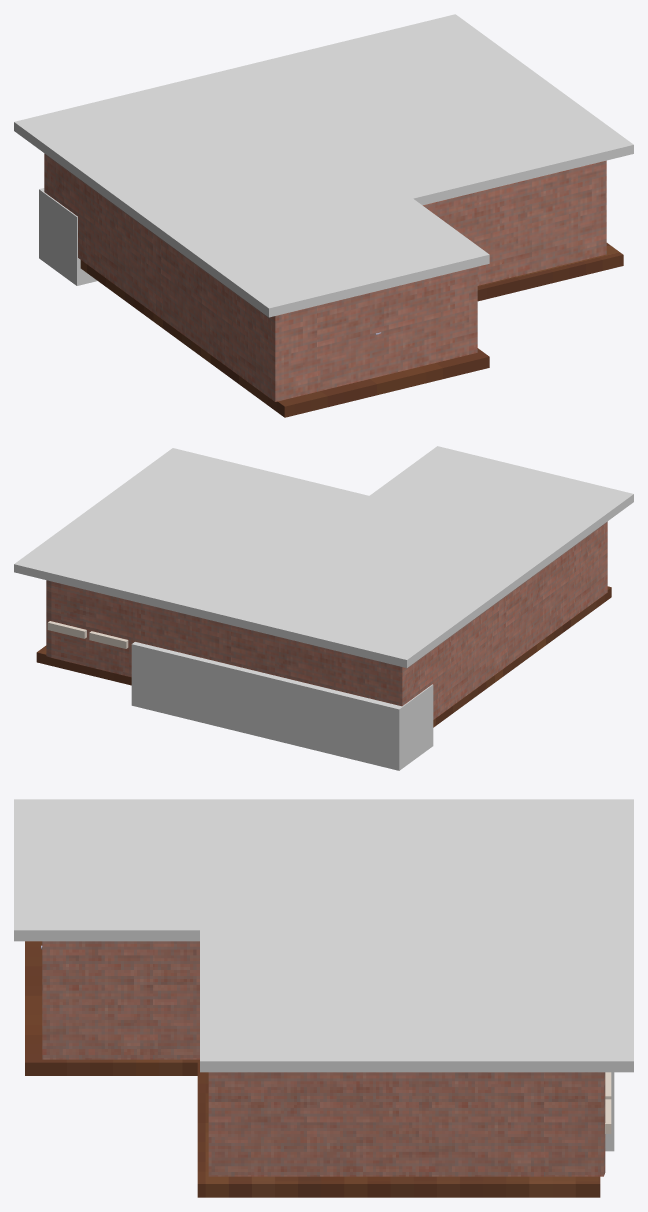
The model's file is House.fbx.
The picture shows the model from 3 angles, top to bottom: view 1: azimuth 30°, elevation 25°; view 2: azimuth 150°, elevation 25°; view 3: azimuth 270°, elevation 25°; orthographic projection. The views are drawn at different scales.
Parts seen in each view (by area): view 1: Ceiling, Room, Floor, counter/sink; view 2: Ceiling, Room, counter/sink, Floor, window hole 1, window hole 2; view 3: Ceiling, Room, Floor.
Boxes of the visible parts, box(x1,y1,x2,y2) form: Ceiling: box(14, 14, 633, 317); Room: box(44, 153, 606, 401); Floor: box(80, 243, 623, 417); counter/sink: box(39, 188, 97, 285); Ceiling: box(14, 446, 633, 667); Room: box(46, 521, 607, 719); counter/sink: box(131, 642, 433, 770); Floor: box(36, 586, 611, 727); window hole 1: box(92, 594, 127, 639); window hole 2: box(51, 584, 85, 629); Ceiling: box(14, 799, 633, 1072); Room: box(42, 941, 605, 1176); Floor: box(25, 941, 600, 1197).
Bounding box in the file's own units: 1118 × 325 × 1118.
